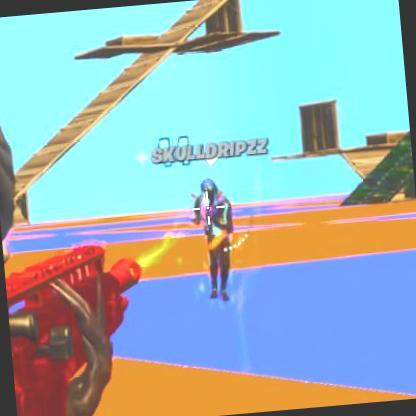person: (184, 180, 242, 291)
